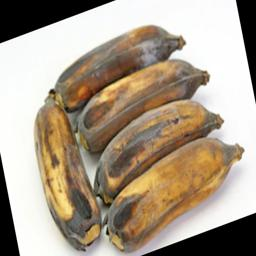Banana Rotten: (18, 17, 254, 243)
